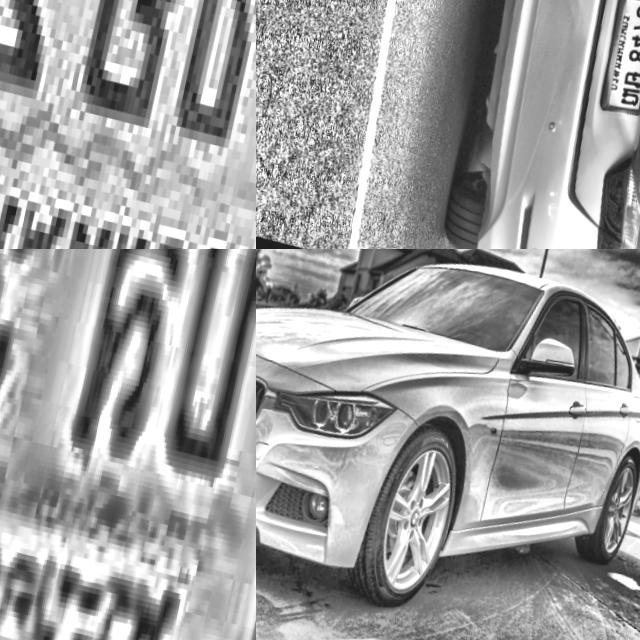license-plate: (0, 249, 256, 640), (0, 0, 256, 249)
